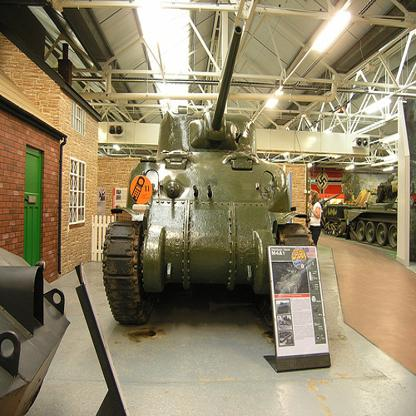Tank: (102, 27, 344, 342)
